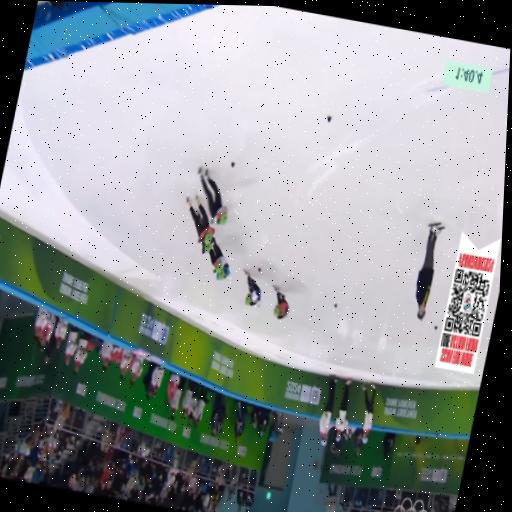Skater: (199, 168, 228, 223), (187, 197, 214, 251), (209, 238, 226, 272), (245, 271, 261, 305), (274, 286, 289, 318), (214, 262, 230, 279)
